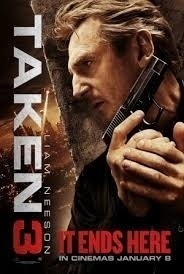pistol: (99, 52, 175, 155)
